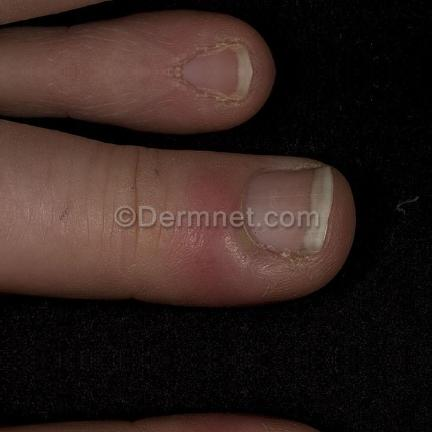Nail: (243, 167, 334, 254)
